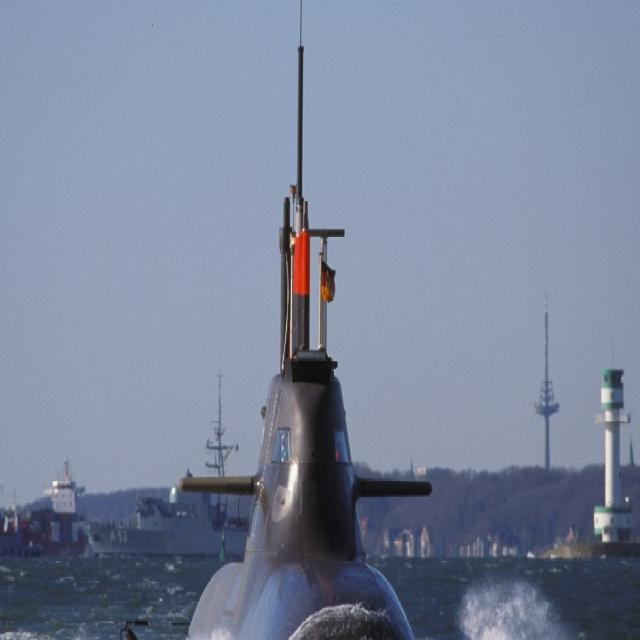submarine: (135, 1, 422, 640)
